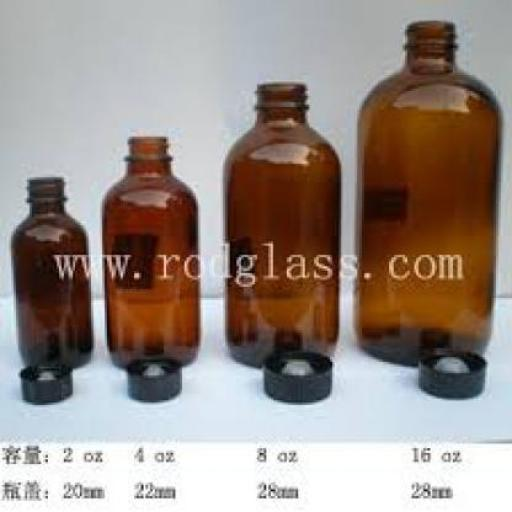glass: (352, 18, 498, 364), (220, 80, 338, 366), (102, 136, 198, 369), (9, 178, 89, 371)
plastic: (262, 348, 330, 402), (413, 346, 485, 396), (120, 355, 180, 401), (19, 360, 70, 402)
